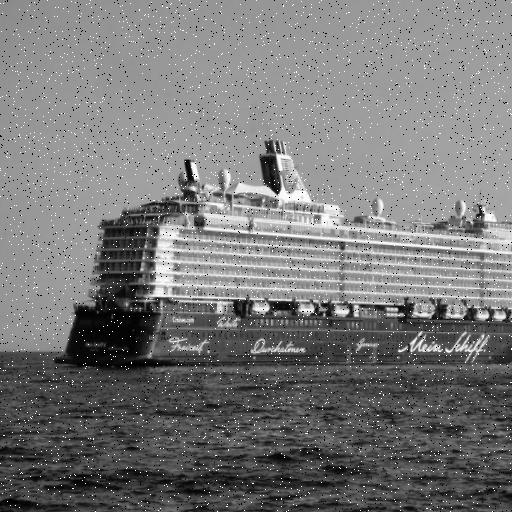cruises: (48, 130, 512, 377)
